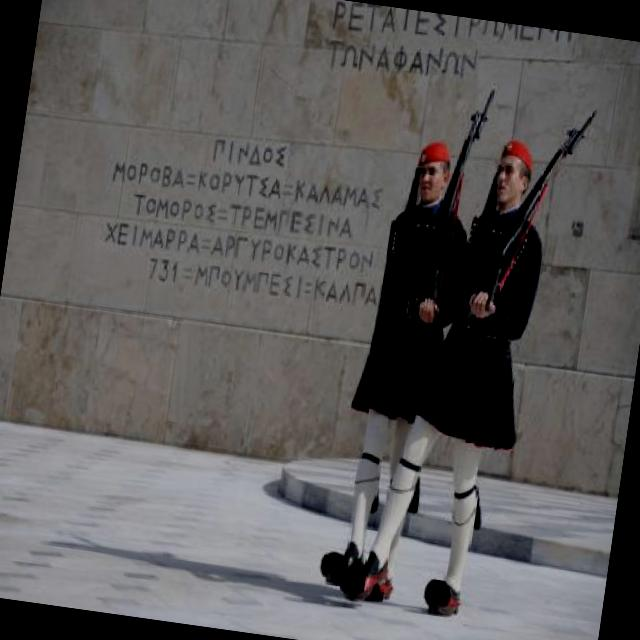Person: (333, 121, 561, 618)
